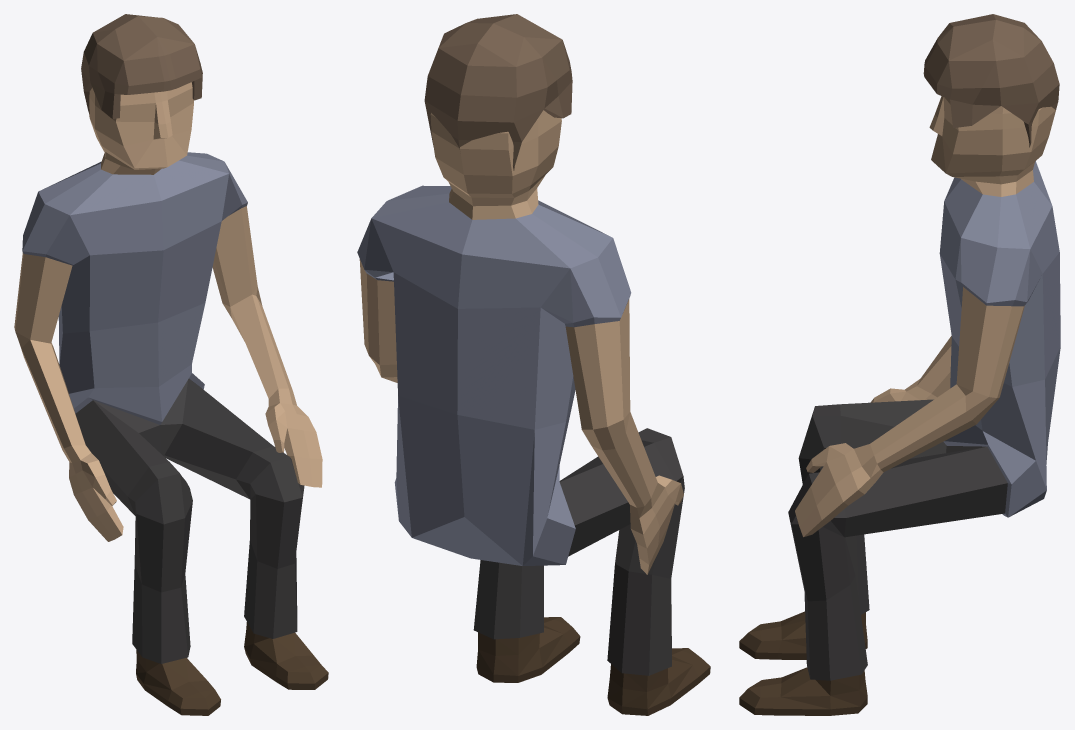
File: male_sit_hair3.glb
3 views of the same model, side by side, from view 1: azimuth 30°, elevation 25°; view 2: azimuth 150°, elevation 25°; view 3: azimuth 270°, elevation 25° (orthographic). The views are drawn at different scales.
Visible parts, largest first — view 1: hair; view 2: hair; view 3: hair.
Boxes of the visible parts, bbox=[...] form: hair: bbox=[14, 14, 328, 715]; hair: bbox=[357, 14, 710, 715]; hair: bbox=[739, 14, 1060, 715].
Size of the model in its own units: 0.5818 by 1.48 by 0.6609.
